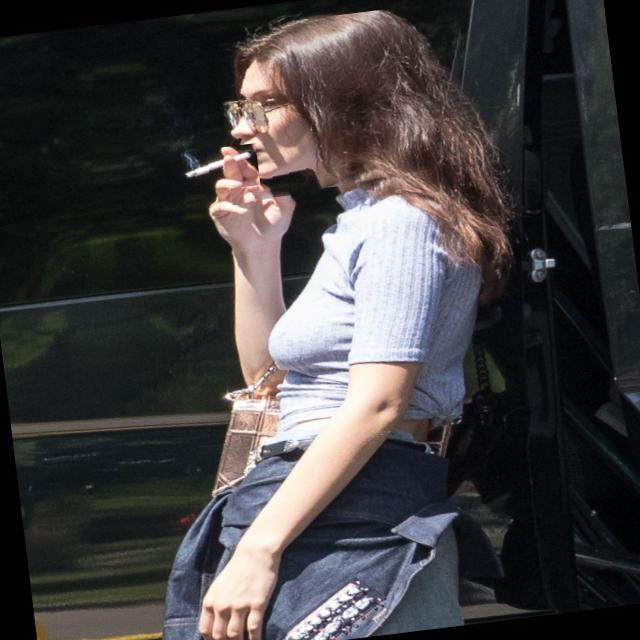cigarette: (172, 142, 260, 195)
